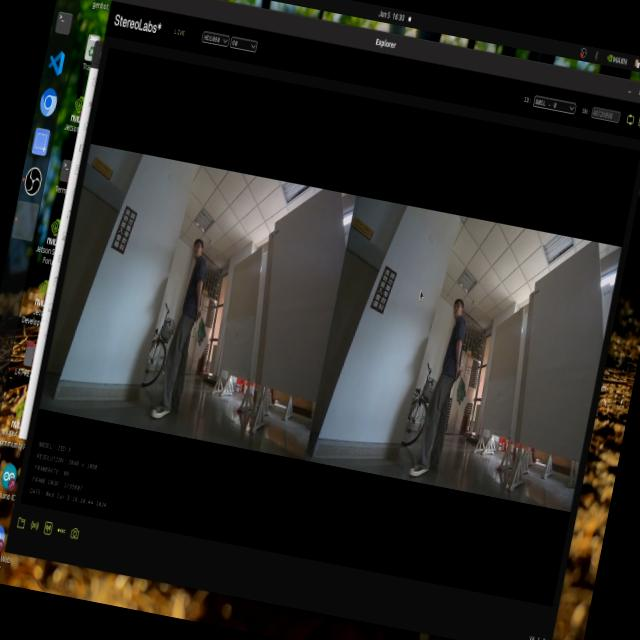green: (188, 310, 215, 354), (452, 380, 468, 408)
